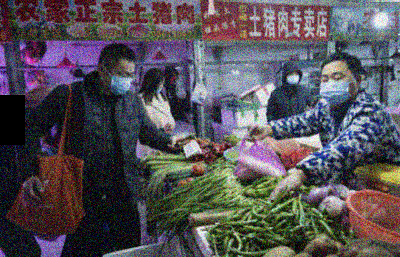mask_weared_incorrect: (157, 80, 165, 94)
with_mask: (319, 68, 356, 104), (107, 67, 136, 95), (286, 70, 300, 84)
